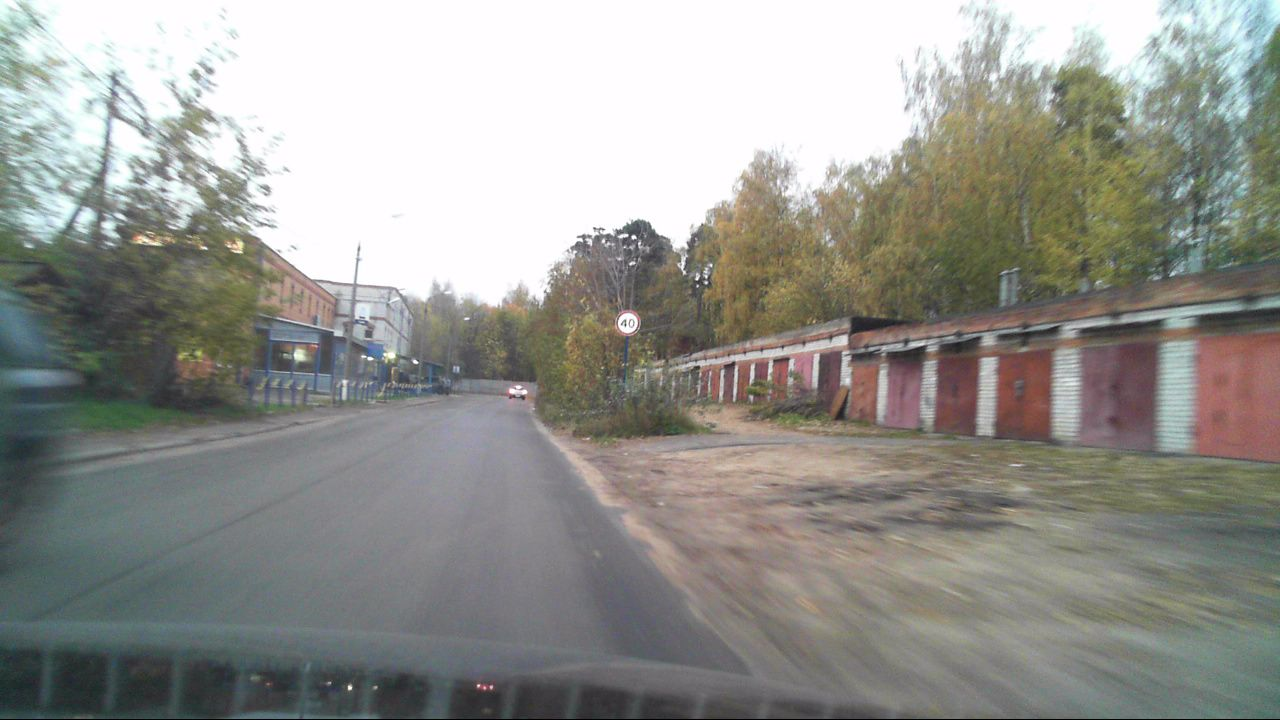speed_warning_40: (615, 310, 641, 335)
